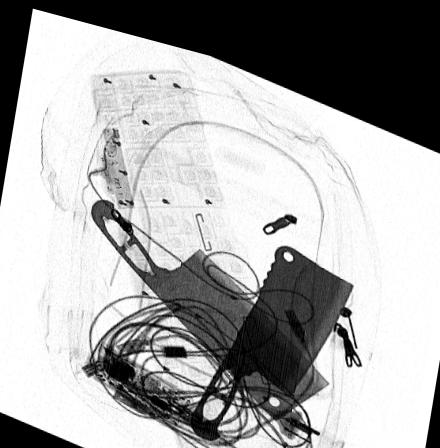Knife: (90, 193, 329, 406), (189, 229, 354, 429)
